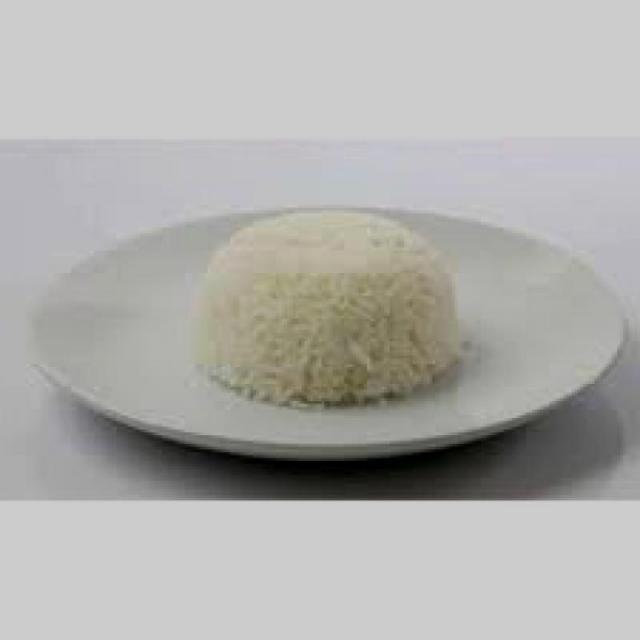Chicken -Chicken Inasal-: (189, 210, 462, 403)
